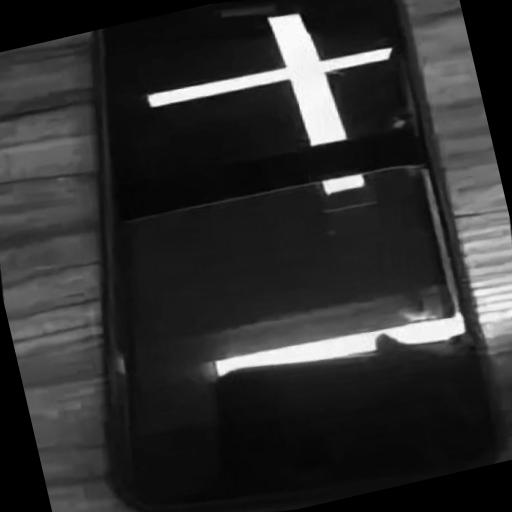phone: (91, 0, 499, 512)
